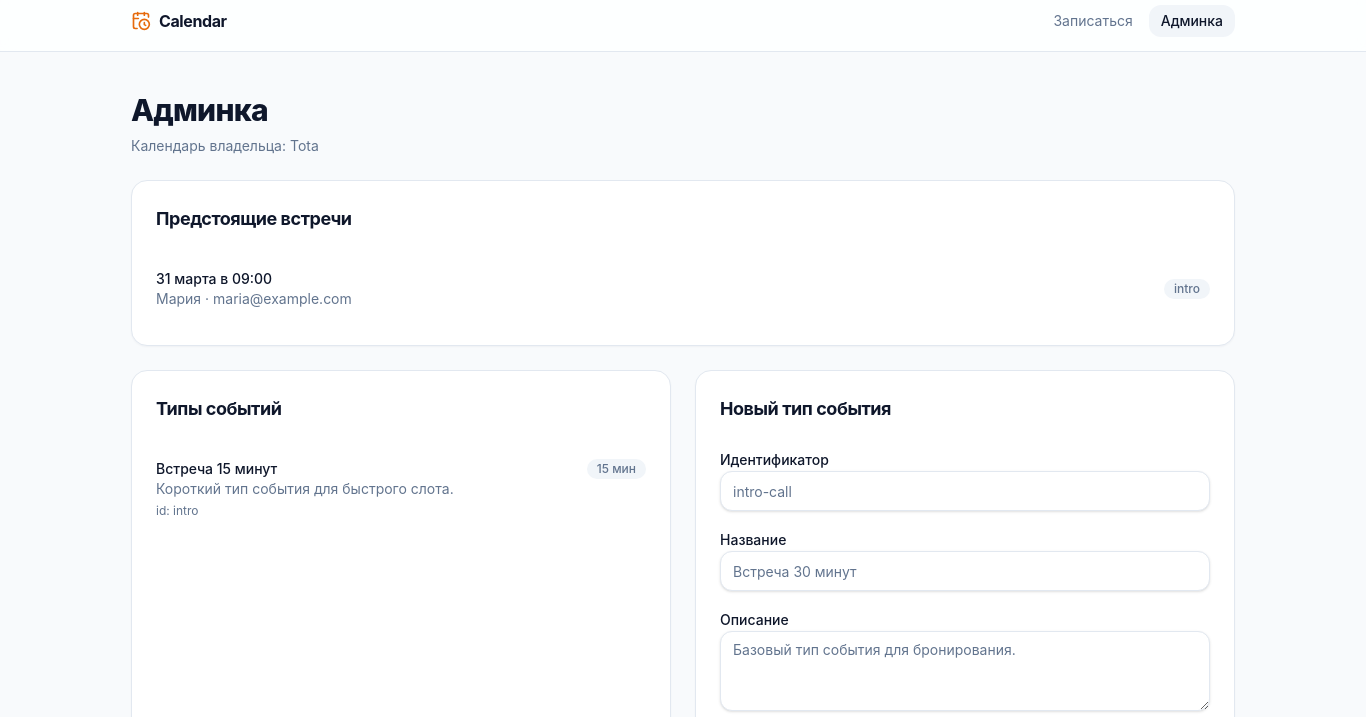
Test: AdminPage › показывает сообщение по коду event_type_id_taken
This screenshot has width=1366, height=717.
Type "intro" into the field labelled "Идентификатор". click: (965, 491)
box: [720,471,1210,511]
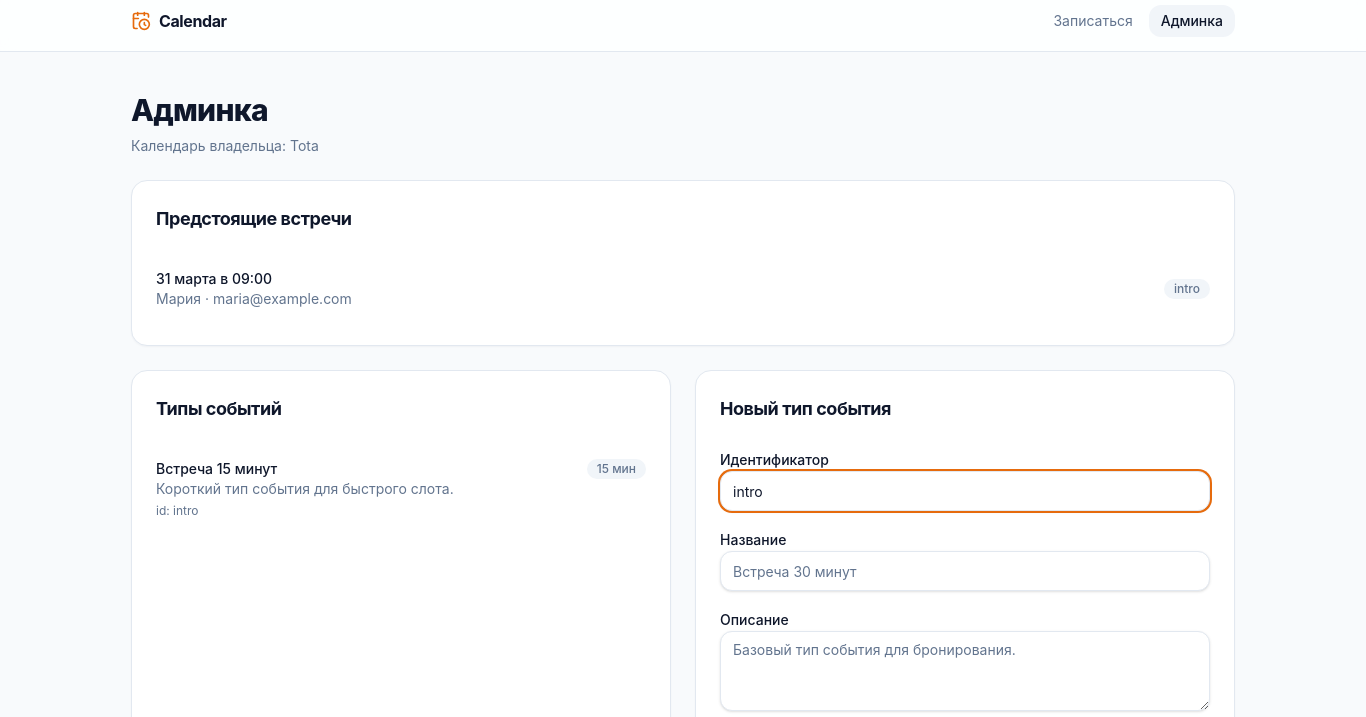
Type "Дубль" into the field labelled "Название". click: (965, 571)
box: [720,551,1210,591]
(page scrolled)
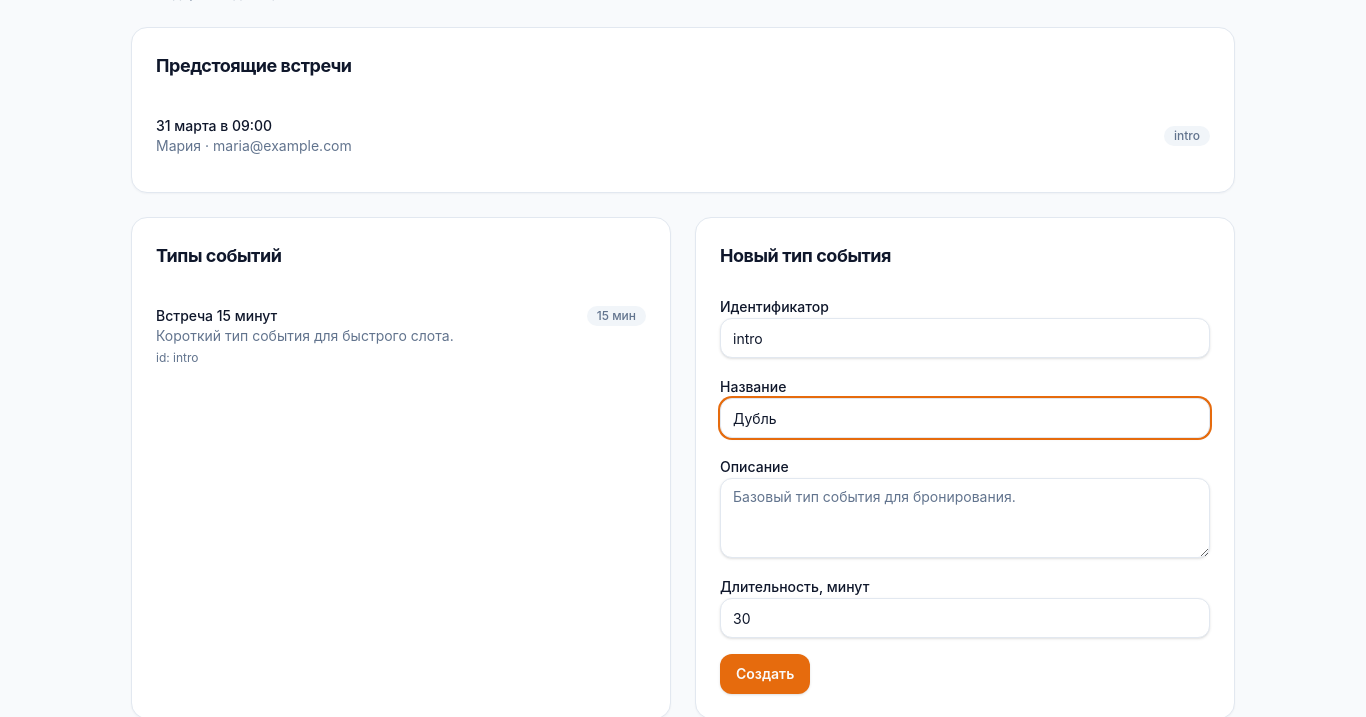
Click the button "Создать". click: click(765, 674)
box: [720,654,810,694]
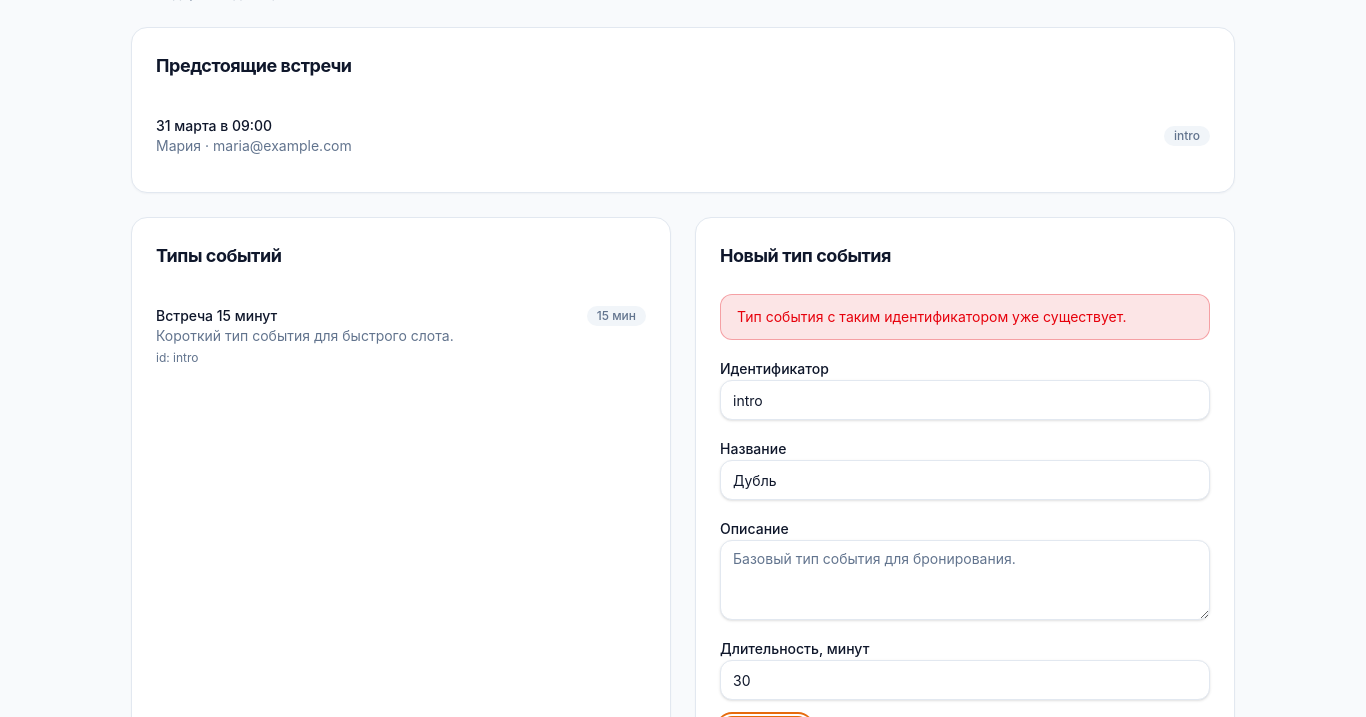
Check: the message reads "Тип события с таким идентификатором уже существует.", box [737,308,1126,325]
